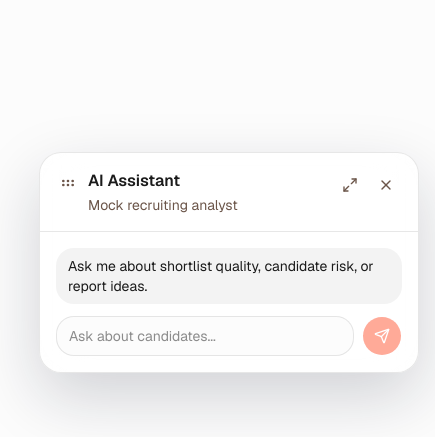
AiDrawer › sends a message and shows a mock assistant reply
In the field with placeholder "Ask about candidates...": (205, 336) x1=56 y1=316 x2=354 y2=356, type "top candidates"
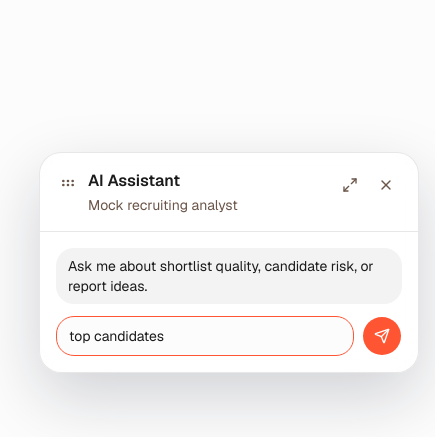
Click the button named "send message": (382, 336) x1=362 y1=316 x2=402 y2=356
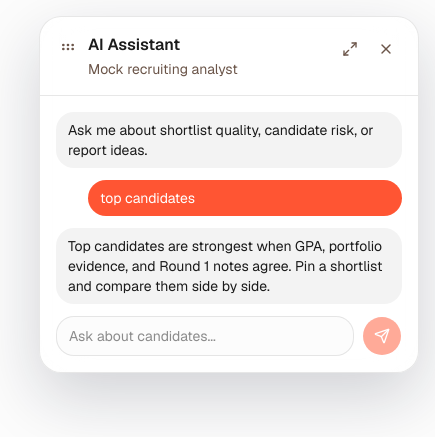
Expected: the text "Top candidates are strongest" is shown, x1=68 y1=237 x2=382 y2=295
